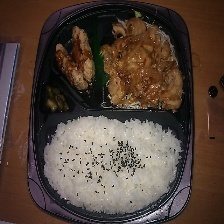rice: (41, 115, 184, 215)
